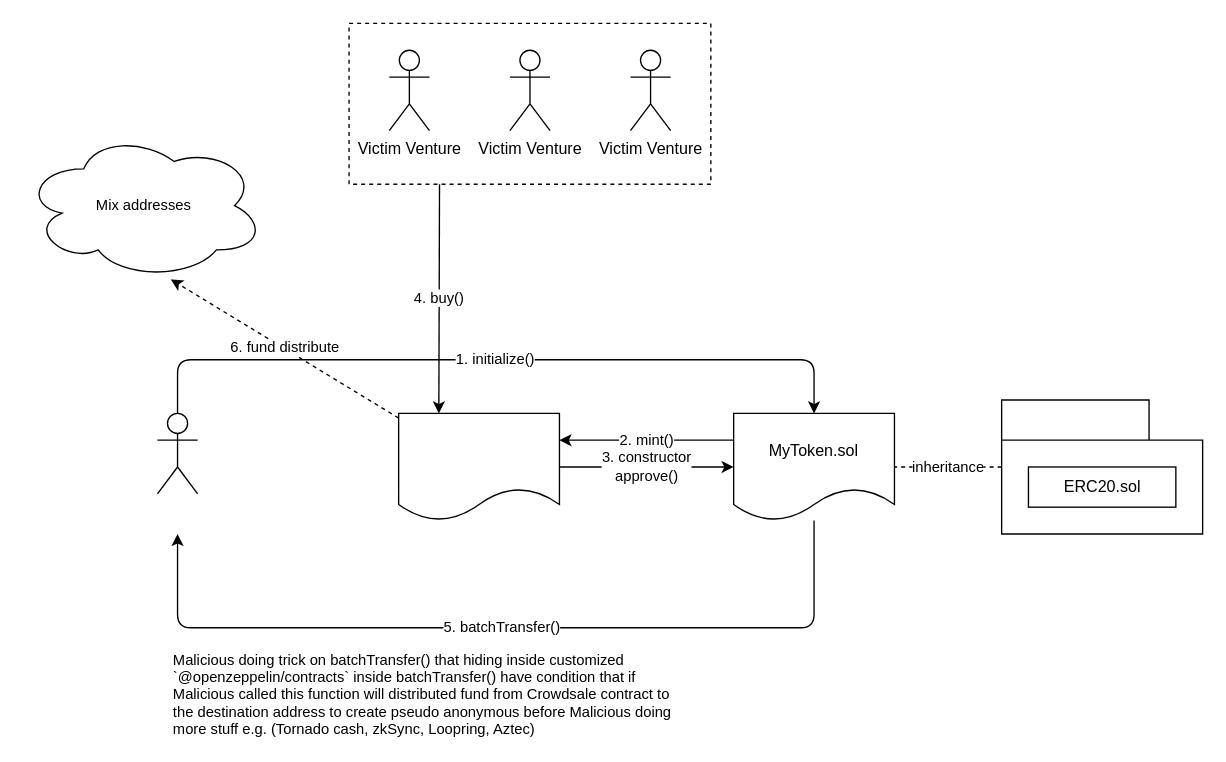
Some shapes in this 1226 by 762 pixel diagram are drawn without their labels. Each missing label, with the centre of its shape:
"@openzeppelin/contracts" goes at point 1101,466.
"CrowdSale.sol" goes at point 478,466.
"Malicious" goes at point 177,453.
